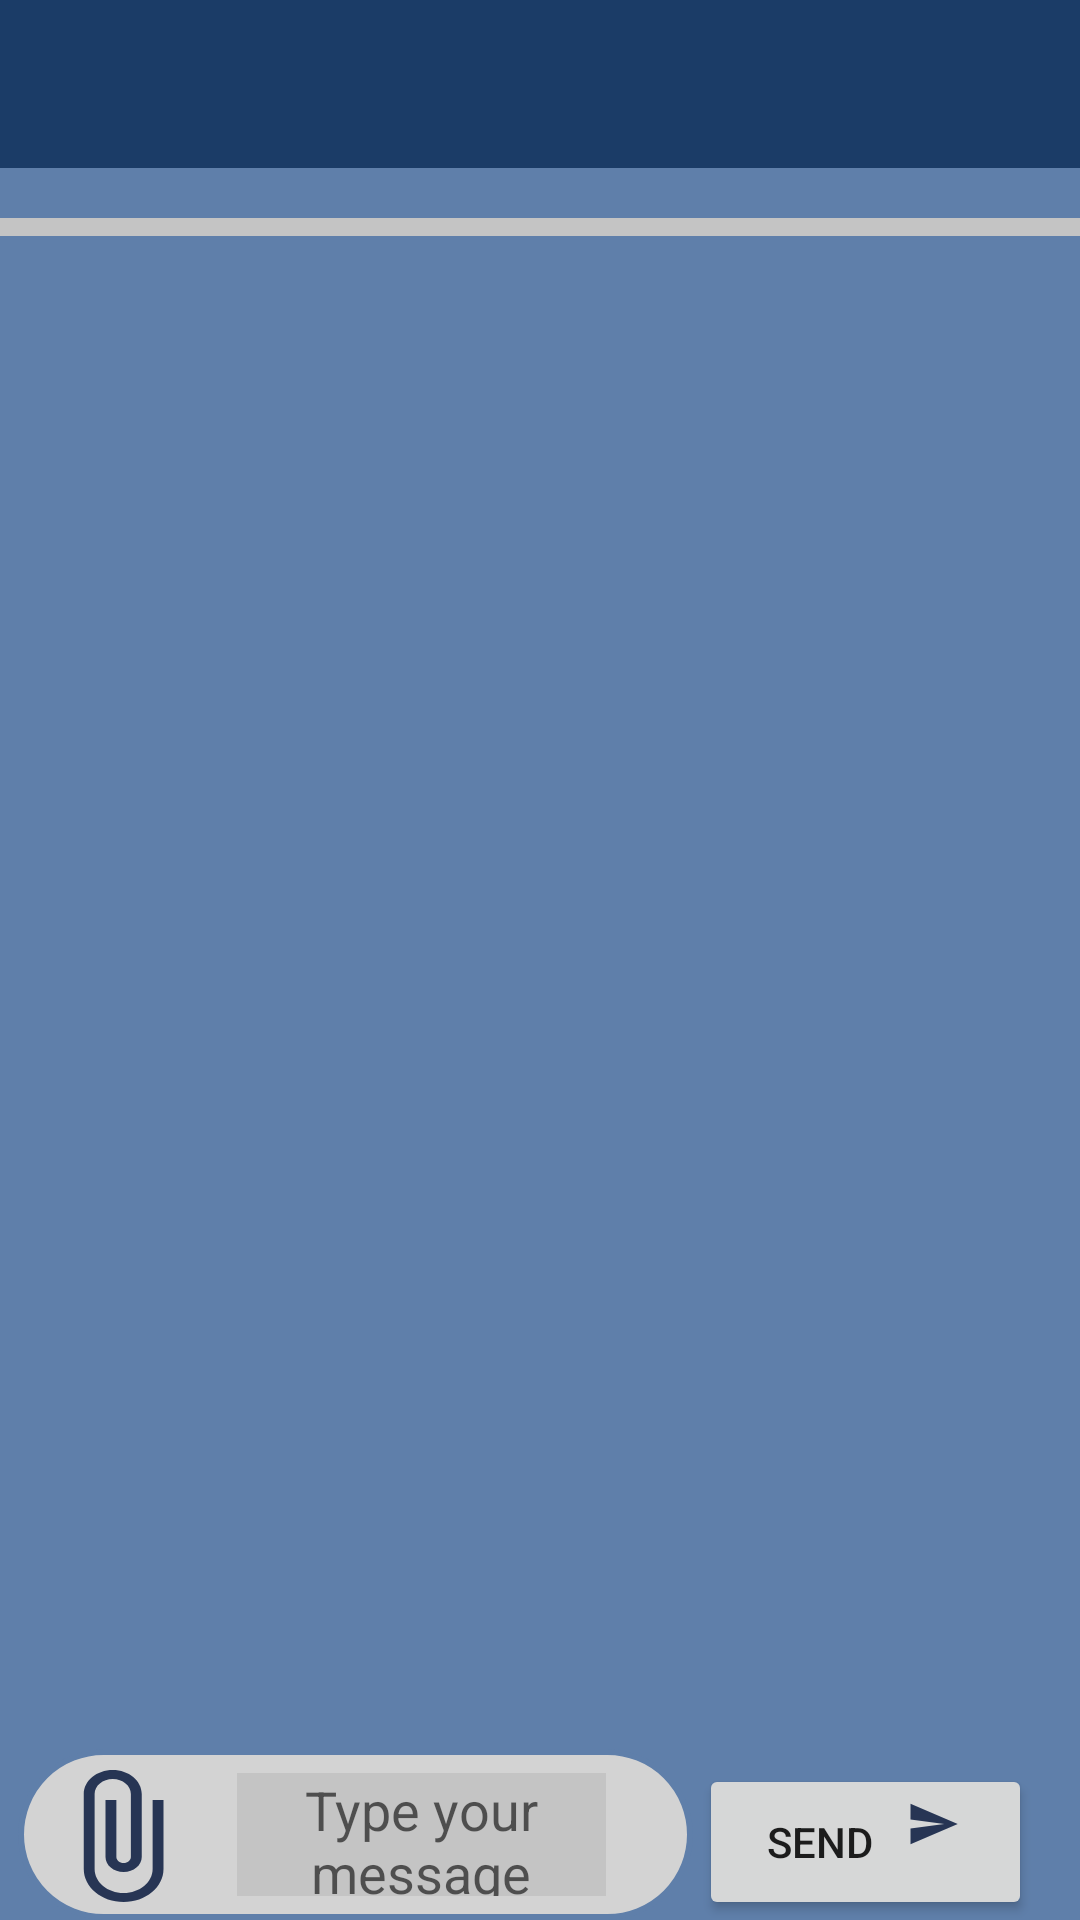

Icons on this 1080 × 1920 Android screen, each with the point to tap as point (x, y):
attach file: point (123, 1836)
